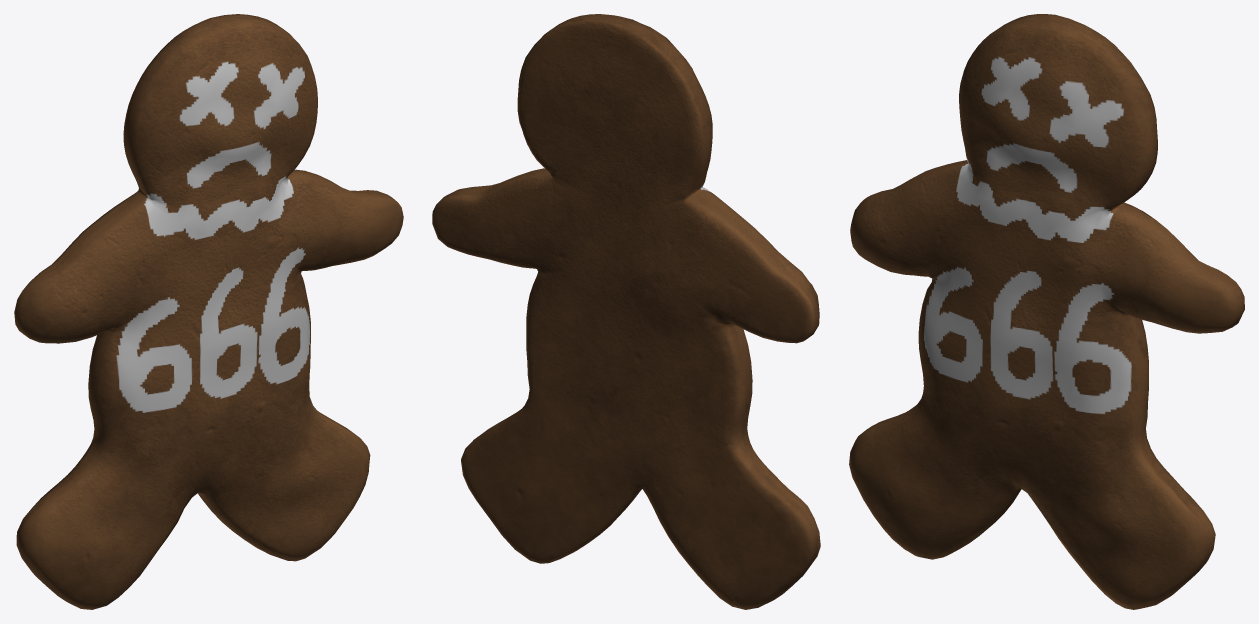
File: biscoito mal.glb
3 renders of one model, left to right at view 1: azimuth 30°, elevation 25°; view 2: azimuth 150°, elevation 25°; view 3: azimuth 330°, elevation 25°, orthographic. The views are drawn at different scales.
Visible parts, largest first — view 1: node_id133; view 2: node_id133; view 3: node_id133.
Boxes of the visible parts, x1,y1,x2,y2 form: node_id133: [14, 14, 403, 609]; node_id133: [432, 14, 820, 609]; node_id133: [849, 14, 1244, 609].
Size of the model in its own units: 0.1132 by 0.1585 by 0.0178.
Materials: 1 (1 with a texture image).
